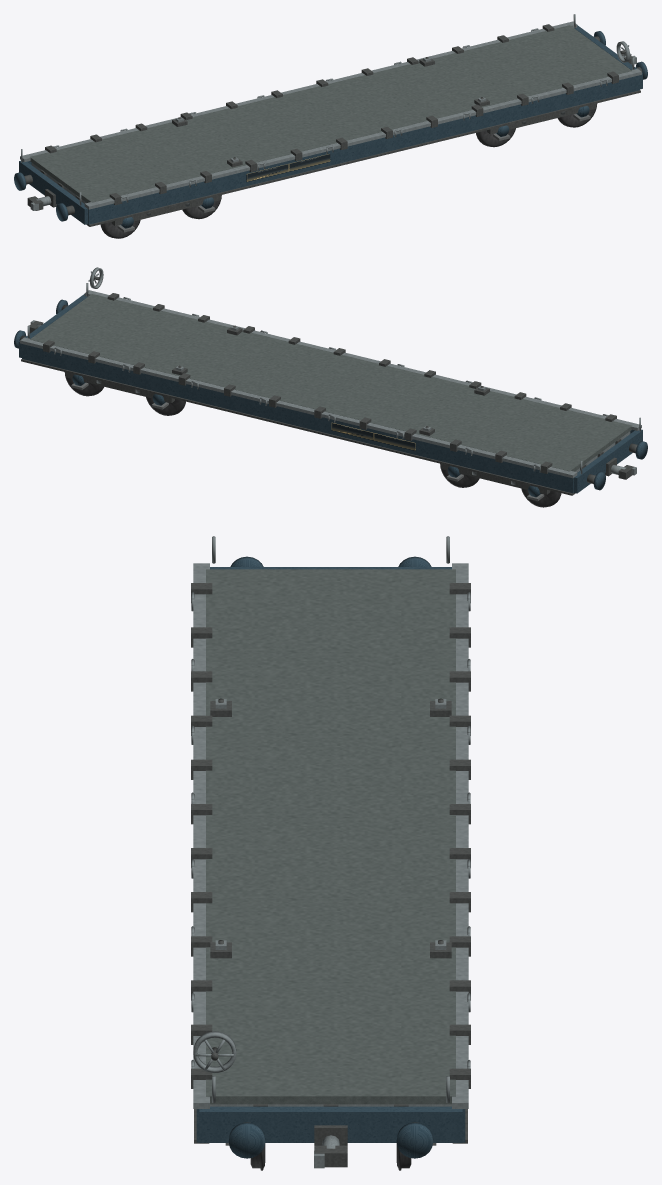
Rendered from PROJECT_Z_Flatbed_Wagon_Standalone.glb.
3 renders of one model, top to bottom at view 1: azimuth 30°, elevation 25°; view 2: azimuth 150°, elevation 25°; view 3: azimuth 270°, elevation 25°, orthographic. The views are drawn at different scales.
Visible parts, largest first — view 1: WGN_MainDeckSlab, WGN_L_SideSill, WGN_L_SillFlangeTop, WGN_L_SillFlangeBottom, WGN_R_SillFlangeTop, WGN_A_EndBeam, WGN_L_FleetNumberPlate, BOGIE_A_L_SideFrameLower, BOGIE_B_L_SideFrameLower, WGN_B_EndBeam, BOGIE_A_Axle1_Wheel_L, BOGIE_B_Axle1_Wheel_L; view 2: WGN_MainDeckSlab, WGN_R_SideSill, WGN_R_SillFlangeTop, WGN_R_SillFlangeBottom, WGN_L_SillFlangeTop, WGN_A_EndBeam, WGN_R_FleetNumberPlate, BOGIE_B_R_SideFrameLower, BOGIE_A_R_SideFrameLower, WGN_B_EndBeam, BOGIE_A_Axle1_Wheel_R, BOGIE_B_Axle1_Wheel_R; view 3: WGN_MainDeckSlab, WGN_B_EndBeam, WGN_R_SillFlangeTop, WGN_L_SillFlangeTop, WGN_B_BufferHead_L, WGN_B_BufferHead_R.
Boxes of the visible parts, x1,y1,x2,y2 form: WGN_MainDeckSlab: [30, 25, 631, 202]; WGN_L_SideSill: [87, 75, 639, 225]; WGN_L_SillFlangeTop: [84, 68, 641, 209]; WGN_L_SillFlangeBottom: [86, 90, 640, 226]; WGN_R_SillFlangeTop: [20, 21, 577, 162]; WGN_A_EndBeam: [19, 160, 88, 224]; WGN_L_FleetNumberPlate: [246, 154, 330, 181]; BOGIE_A_L_SideFrameLower: [111, 195, 221, 225]; BOGIE_B_L_SideFrameLower: [487, 103, 596, 134]; WGN_B_EndBeam: [574, 25, 642, 89]; BOGIE_A_Axle1_Wheel_L: [100, 220, 140, 238]; BOGIE_B_Axle1_Wheel_L: [476, 128, 515, 147]; WGN_MainDeckSlab: [30, 294, 631, 471]; WGN_R_SideSill: [22, 344, 573, 493]; WGN_R_SillFlangeTop: [20, 337, 577, 478]; WGN_R_SillFlangeBottom: [21, 359, 575, 495]; WGN_L_SillFlangeTop: [84, 290, 641, 430]; WGN_A_EndBeam: [573, 429, 642, 493]; WGN_R_FleetNumberPlate: [331, 422, 415, 450]; BOGIE_B_R_SideFrameLower: [65, 372, 174, 402]; BOGIE_A_R_SideFrameLower: [440, 464, 550, 494]; WGN_B_EndBeam: [19, 294, 87, 357]; BOGIE_A_Axle1_Wheel_R: [521, 488, 561, 507]; BOGIE_B_Axle1_Wheel_R: [146, 397, 185, 415]; WGN_MainDeckSlab: [206, 569, 455, 1104]; WGN_B_EndBeam: [199, 1106, 462, 1142]; WGN_R_SillFlangeTop: [452, 563, 468, 1108]; WGN_L_SillFlangeTop: [193, 563, 209, 1108]; WGN_B_BufferHead_L: [228, 1122, 265, 1158]; WGN_B_BufferHead_R: [396, 1122, 433, 1158].
Size of the model in its own units: 14.28 by 1.9 by 2.87.
Materials: 7 (6 with a texture image).
